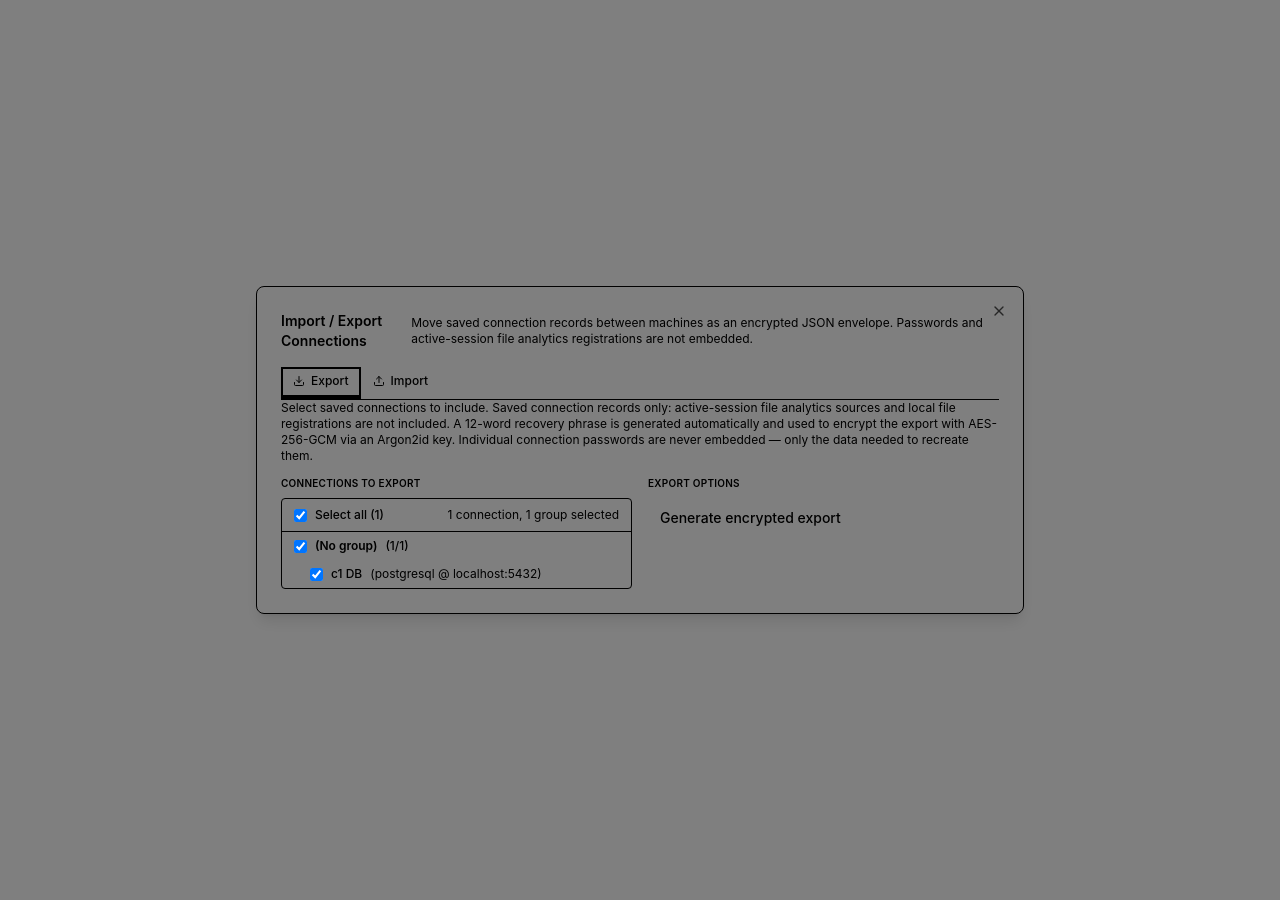
Test case: ImportExportDialog › Export › Copy buttons write the recovery phrase and (after acknowledgement) the JSON to the clipboard
What coordinates should you click on to do the following:
click the button "Generate encrypted export"
I would click on:
 (750, 518)
Its box is [648, 502, 853, 534].
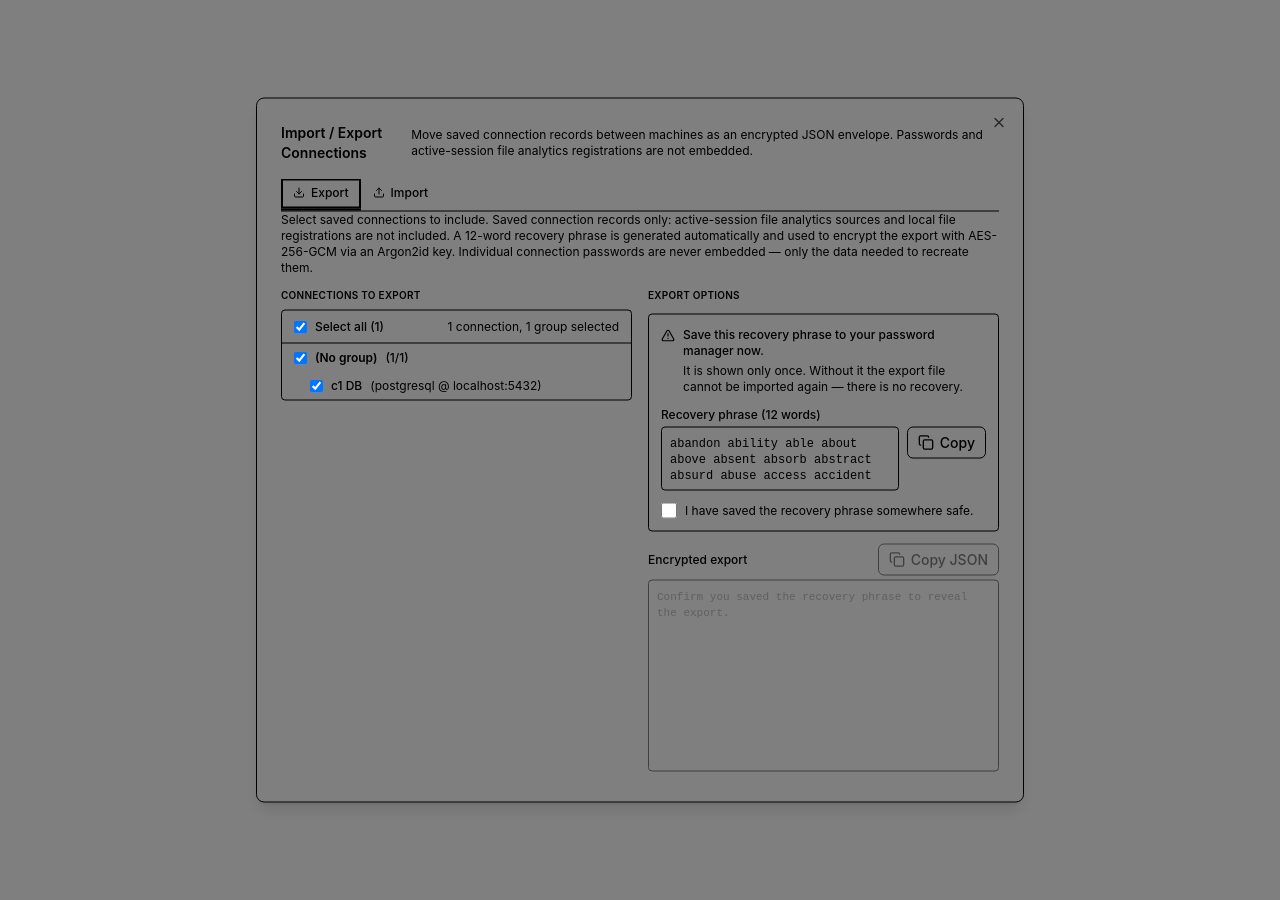
// Recovery phrase copy works immediately.
What coordinates should you click on to do the following:
click the button with aria-label "copy recovery phrase"
I would click on:
 (946, 442)
Its box is [907, 426, 986, 458].
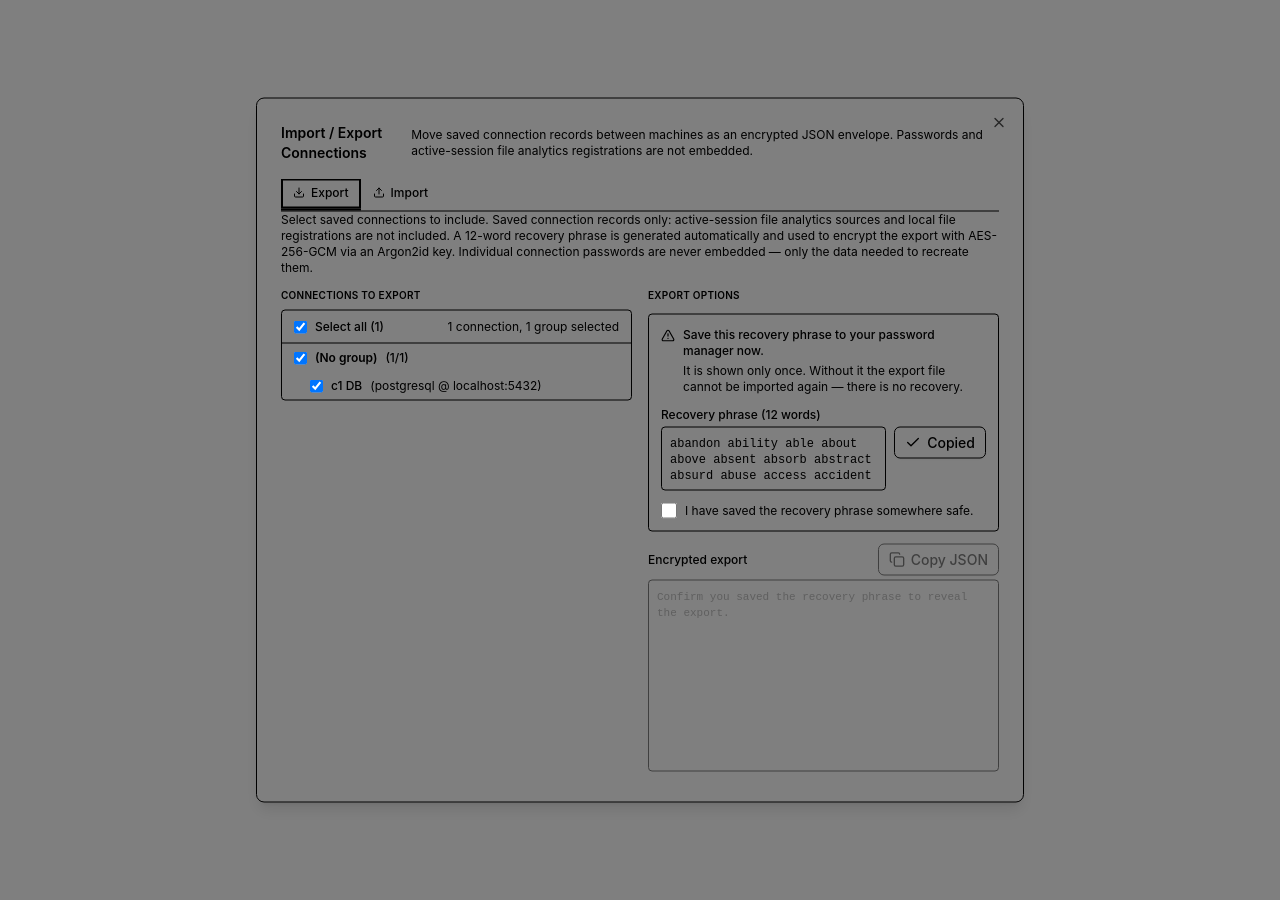
// JSON copy is gated on the acknowledgement.
What coordinates should you click on to do the following:
click the checkbox labelled "I have saved the recovery phrase somewhere safe."
I would click on:
 (669, 510)
Its box is [661, 502, 677, 518].
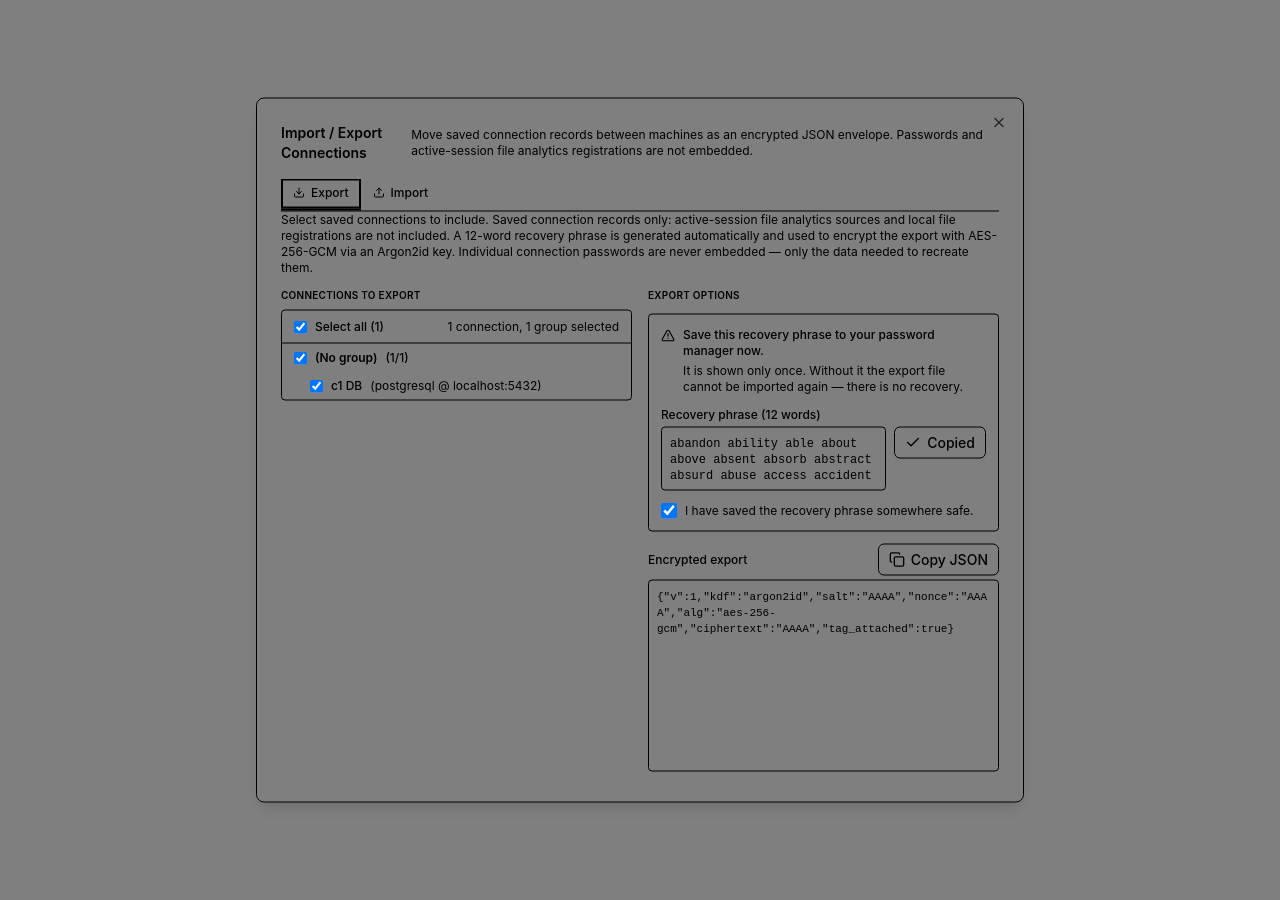
What coordinates should you click on to do the following:
click the button with aria-label "copy export json to clipboard"
I would click on:
 (938, 560)
Its box is [878, 544, 999, 576].
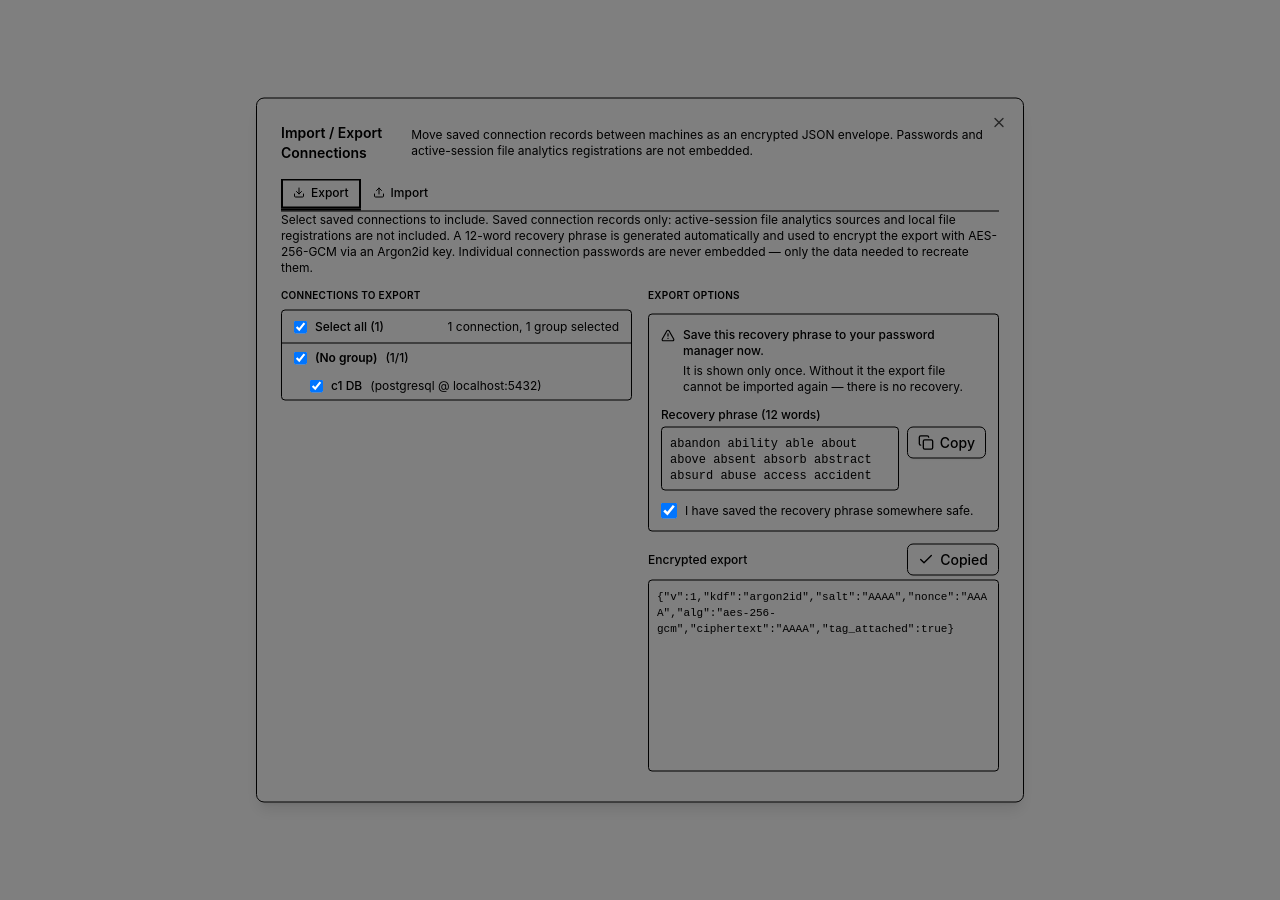
expect the button "Copied" is shown: met, box [907, 544, 999, 576]
